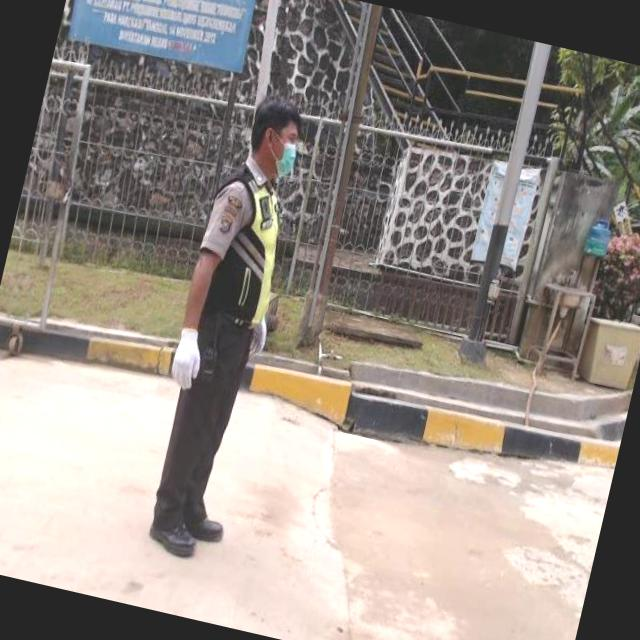boots: (145, 504, 203, 560), (180, 497, 229, 549)
gloves: (163, 323, 211, 397), (243, 312, 273, 357)
no-helmet: (240, 92, 313, 186)
vest: (185, 164, 296, 337)
